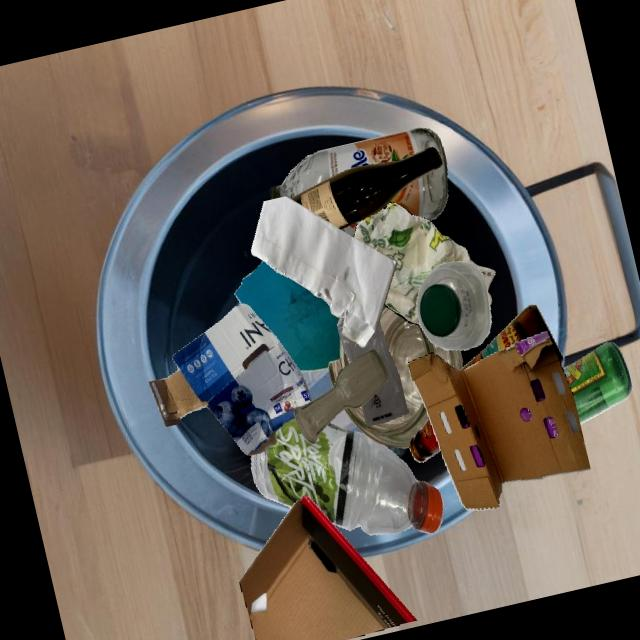cardboard: (407, 330, 590, 510), (239, 494, 416, 640), (148, 303, 312, 455)
glass: (269, 127, 447, 209), (343, 341, 462, 448), (291, 146, 442, 229), (293, 349, 388, 443), (460, 304, 562, 369), (563, 342, 632, 424), (329, 318, 389, 363), (409, 418, 440, 462)
paper: (250, 195, 396, 347), (353, 202, 495, 325), (234, 260, 341, 371)
plastic: (251, 418, 443, 534), (336, 317, 408, 426), (416, 261, 491, 350)
